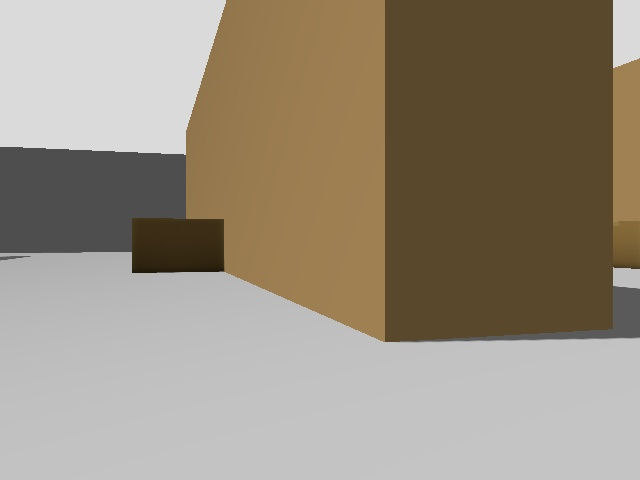package: (137, 224, 221, 268)
